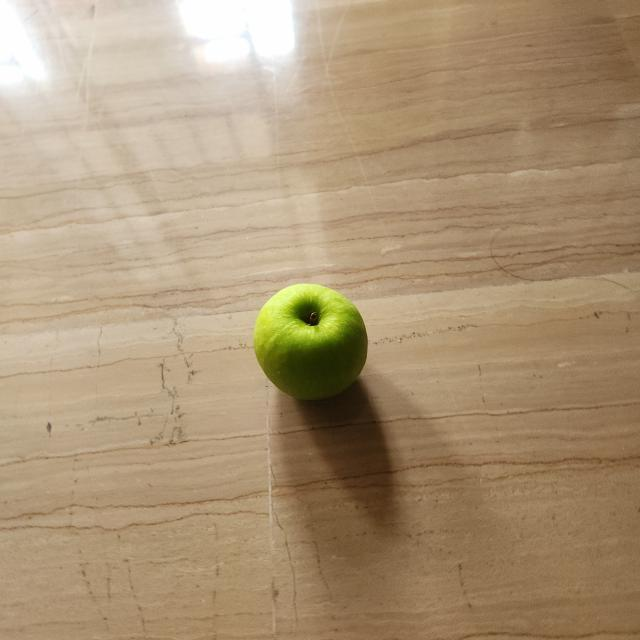apple: (242, 278, 386, 419)
